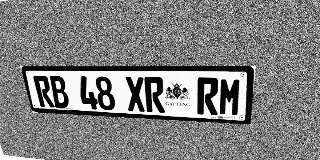4: (77, 76, 99, 109)
8: (94, 76, 116, 110)
B: (48, 76, 70, 108)
M: (218, 78, 242, 116)
R: (197, 77, 219, 115), (144, 77, 165, 113), (33, 76, 55, 107)
X: (124, 77, 146, 112)
